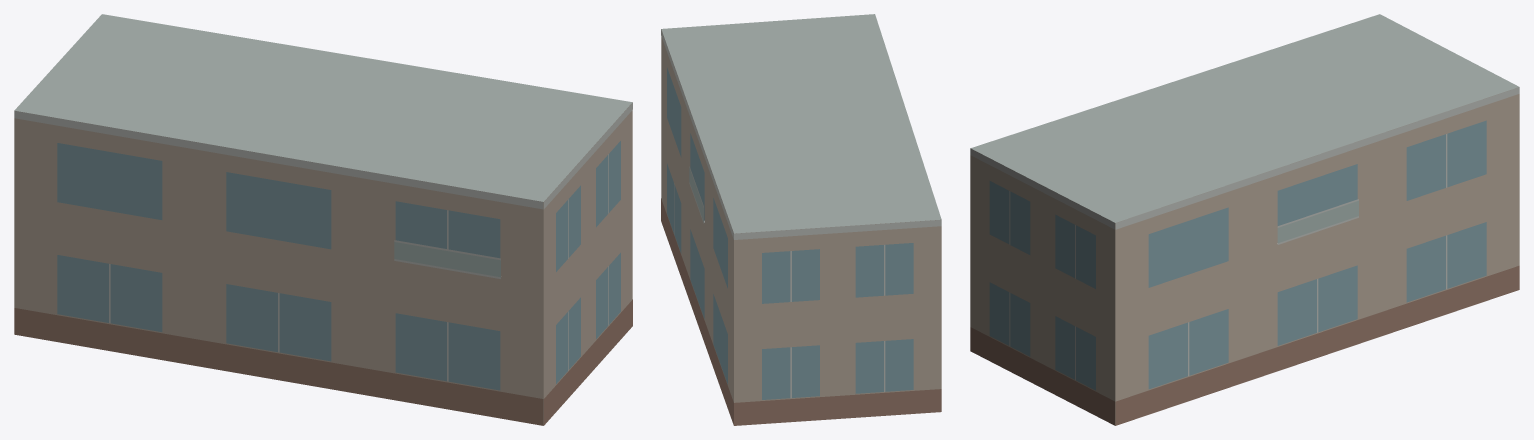
The model's file is survey-upis-33038227.glb.
The picture shows the model from 3 angles, left to right: view 1: azimuth 30°, elevation 25°; view 2: azimuth 150°, elevation 25°; view 3: azimuth 270°, elevation 25°; orthographic projection. The views are drawn at different scales.
Visible parts, largest first — view 1: survey-upis-33038227.tmp; view 2: survey-upis-33038227.tmp; view 3: survey-upis-33038227.tmp.
Boxes of the visible parts, x1,y1,x2,y2 form: survey-upis-33038227.tmp: (14,14,632,425); survey-upis-33038227.tmp: (661,14,941,425); survey-upis-33038227.tmp: (970,14,1519,425).
Bounding box in the file's own units: 15.91 × 7.2 × 17.67.
